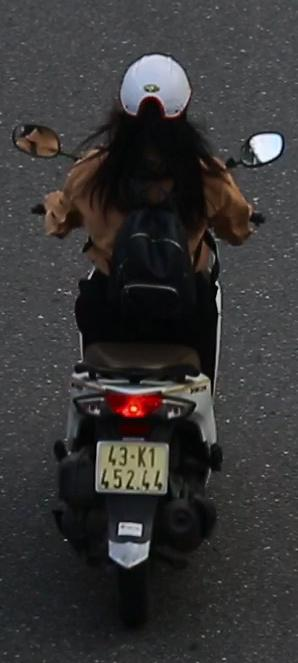LP: (92, 433, 174, 498)
helmet: (113, 47, 196, 178)
